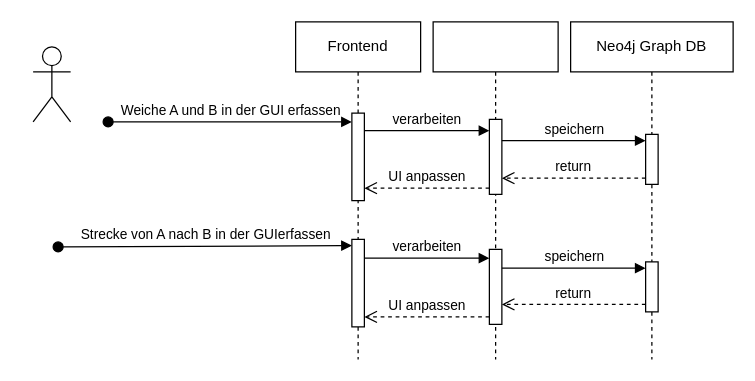
Image size: 755x381. Some labels were removed from this diagram. Each missing label, with the centre of its shape:
"Benutzer" belongs at (x=51, y=84).
"EBL Coords" belongs at (x=495, y=190).
